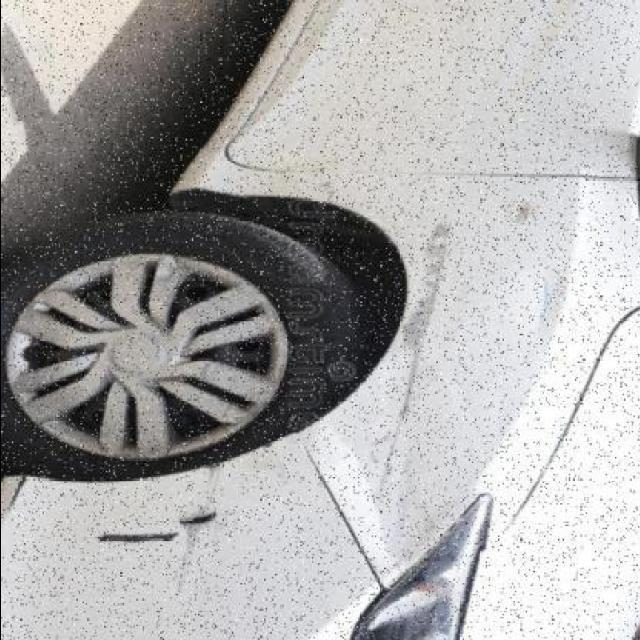fender-dent: (279, 175, 548, 551)
front-bumper-dent: (0, 434, 317, 640)
